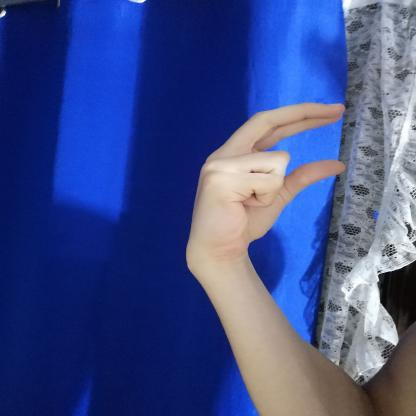DHELL: (175, 92, 362, 261)
